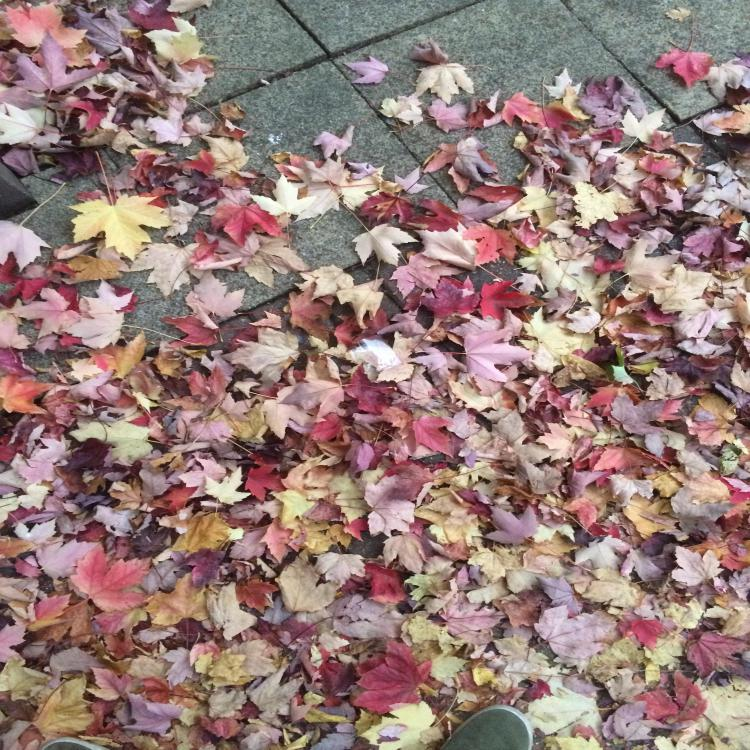Plastic film: (348, 334, 404, 376)
